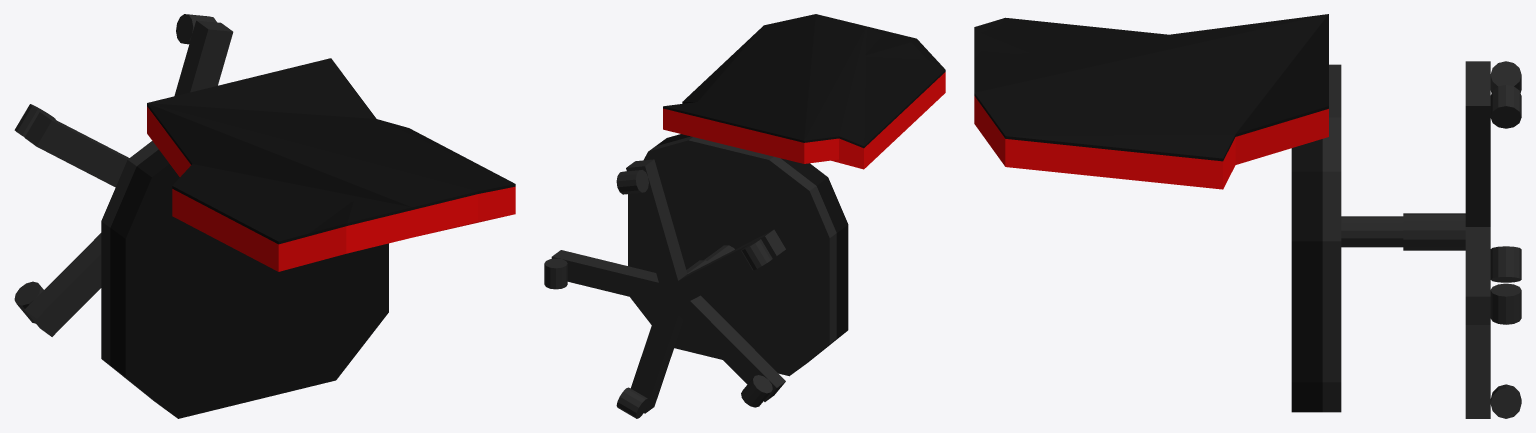
The model's file is nil_link_mesh.dae.
3 renders of one model, left to right at view 1: azimuth 30°, elevation 25°; view 2: azimuth 150°, elevation 25°; view 3: azimuth 270°, elevation 25°, orthographic. The views are drawn at different scales.
Visible parts, largest first — view 1: nil_link (×10); view 2: nil_link (×14); view 3: nil_link (×15).
Part boxes in pixels (x1,y1,x2,y2): nil_link (×10): (14,14,515,418); nil_link (×14): (544,14,945,418); nil_link (×15): (974,14,1521,418).
Bounding box in the file's own units: 0.5574 × 0.598 × 0.88.
